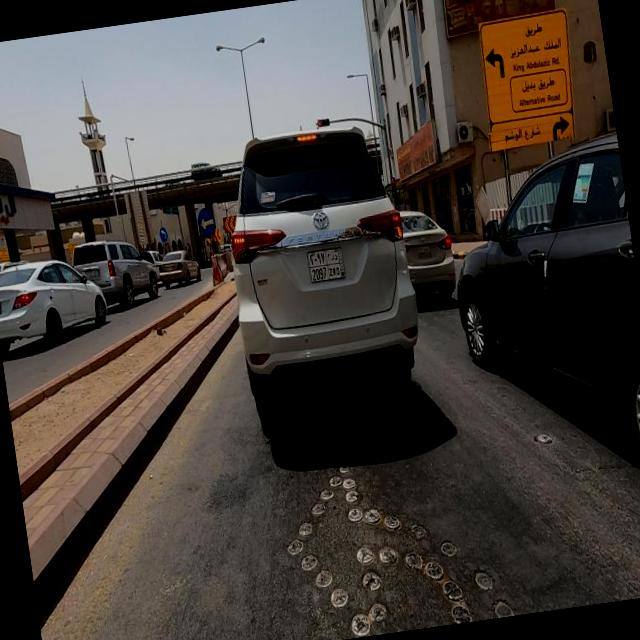debris: (356, 89, 482, 225), (174, 160, 238, 276), (133, 303, 178, 356)
